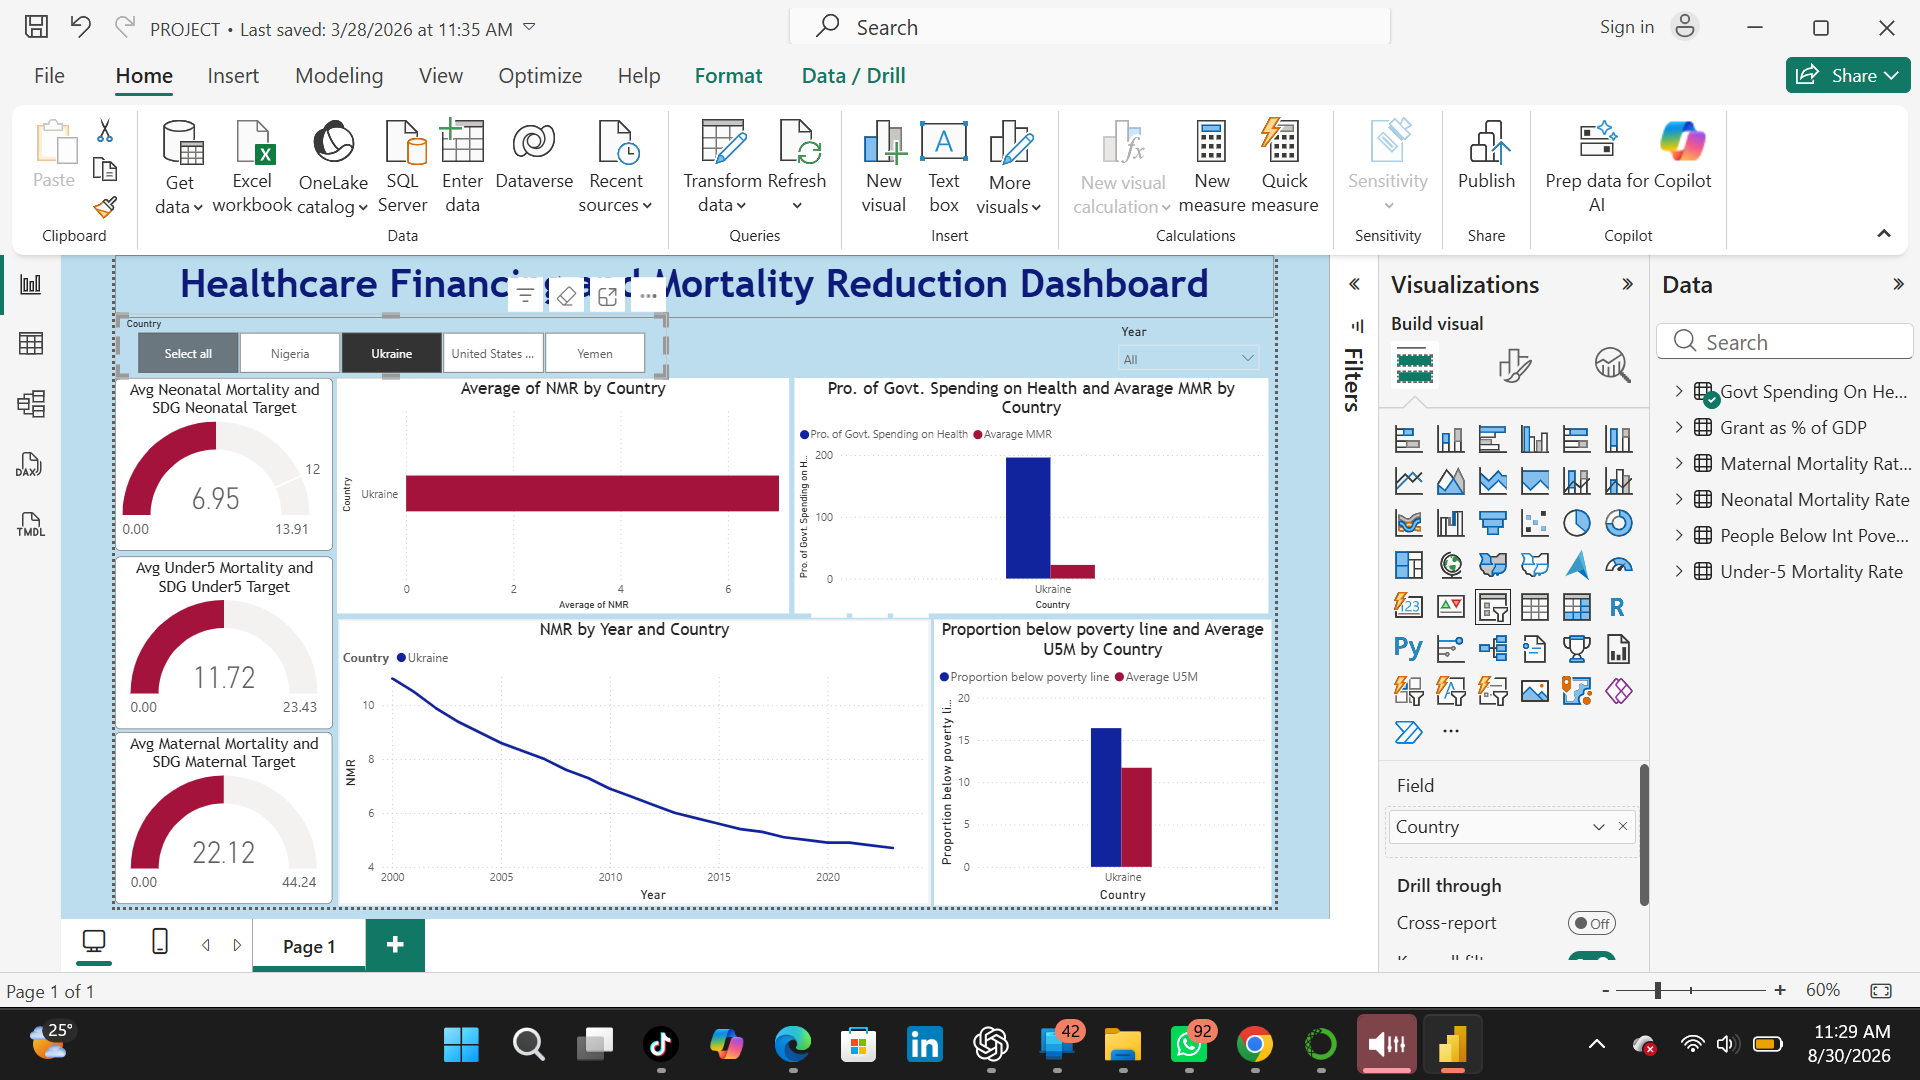

The dashboard page shown, as its layout file describes it:
{"tool":"powerbi","page":{"name":"Page 1","canvas":[1280,720],"ordinal":0},"visuals":[{"type":"lineChart","fields":{"Category":["Neonatal Mortality Rate.Year"],"Series":["Neonatal Mortality Rate.Country"],"Y":["Avg(Neonatal Mortality Rate.Value)"]},"box":[246.3,402.1,653.9,315.8],"z":0},{"type":"clusteredBarChart","fields":{"Category":["Neonatal Mortality Rate.Country"],"Y":["Avg(Neonatal Mortality Rate.Value)"]},"box":[244.9,136.3,499.5,260.2],"z":1000},{"type":"clusteredColumnChart","fields":{"Category":["Under-5 Mortality Rate.Country"],"Y":["Sum(People Below Int Poverty Line.Value)","Avg(Under-5 Mortality Rate.Value)"]},"box":[904.3,402.1,372.9,315.8],"z":2000},{"type":"clusteredColumnChart","fields":{"Category":["Maternal Mortality Ratio.Country"],"Y":["Sum(Govt  Spending On Health Servic.Value)","Avg(Maternal Mortality Ratio.Value)"]},"box":[749.9,136.3,523.1,260.2],"z":3000},{"type":"gauge","fields":{"TargetValue":["Govt  Spending On Health Servic.SDG Neonatal Target"],"Y":["Govt  Spending On Health Servic.Avg Neonatal Mortality"]},"box":[0,136.3,240.7,190.6],"z":4000},{"type":"gauge","fields":{"TargetValue":["Govt  Spending On Health Servic.SDG Maternal Target"],"Y":["Govt  Spending On Health Servic.Avg Maternal Mortality"]},"box":[0,527.3,240,190],"z":5000},{"type":"gauge","fields":{"TargetValue":["Govt  Spending On Health Servic.SDG Under5 Target"],"Y":["Govt  Spending On Health Servic.Avg Under5 Mortality"]},"box":[0,332.5,240.7,190.6],"z":6000},{"type":"textbox","box":[0,0,1280,69.6],"z":7000},{"type":"slicer","fields":{"Values":["Govt  Spending On Health Servic.Country"]},"box":[0,64,609.4,72.3],"z":8000},{"type":"slicer","fields":{"Values":["Neonatal Mortality Rate.Year"]},"box":[1097.7,71,175.3,65.4],"z":9000}]}

Visuals, with their boxes on the page's 1280x720 design canvas (x1, y1, x2, y2). These are canvas units, not pixel positions in the 1920x1080 screenshot, which may show the page scaled, cropped or inside an application window:
lineChart - Neonatal Mortality Rate.Year x Neonatal Mortality Rate.Country: locate(246, 402, 900, 718)
clusteredBarChart - Neonatal Mortality Rate.Country x Avg(Neonatal Mortality Rate.Value): locate(245, 136, 744, 396)
clusteredColumnChart - Under-5 Mortality Rate.Country x Sum(People Below Int Poverty Line.Value): locate(904, 402, 1277, 718)
clusteredColumnChart - Maternal Mortality Ratio.Country x Sum(Govt  Spending On Health Servic.Value): locate(750, 136, 1273, 396)
gauge - Govt  Spending On Health Servic.SDG Neonatal Target x Govt  Spending On Health Servic.Avg Neonatal Mortality: locate(0, 136, 241, 327)
gauge - Govt  Spending On Health Servic.SDG Maternal Target x Govt  Spending On Health Servic.Avg Maternal Mortality: locate(0, 527, 240, 717)
gauge - Govt  Spending On Health Servic.SDG Under5 Target x Govt  Spending On Health Servic.Avg Under5 Mortality: locate(0, 332, 241, 523)
textbox: locate(0, 0, 1280, 70)
slicer - Govt  Spending On Health Servic.Country: locate(0, 64, 609, 136)
slicer - Neonatal Mortality Rate.Year: locate(1098, 71, 1273, 136)
